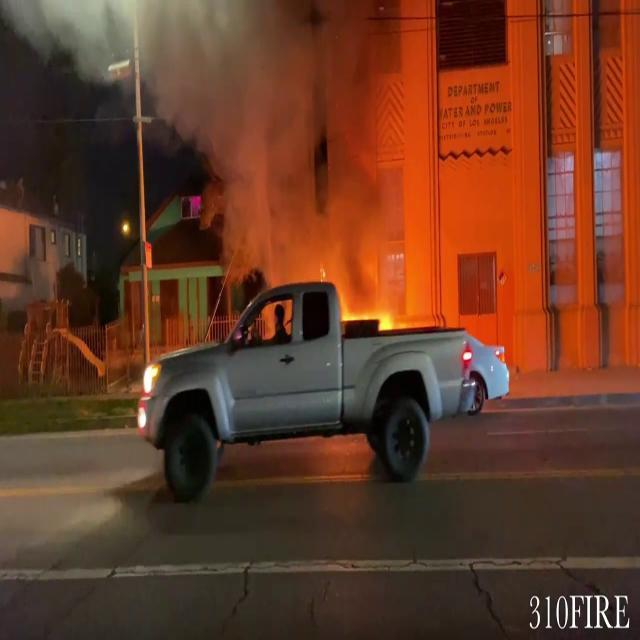Fire: (337, 282, 411, 334)
Smoke: (152, 1, 414, 258)
